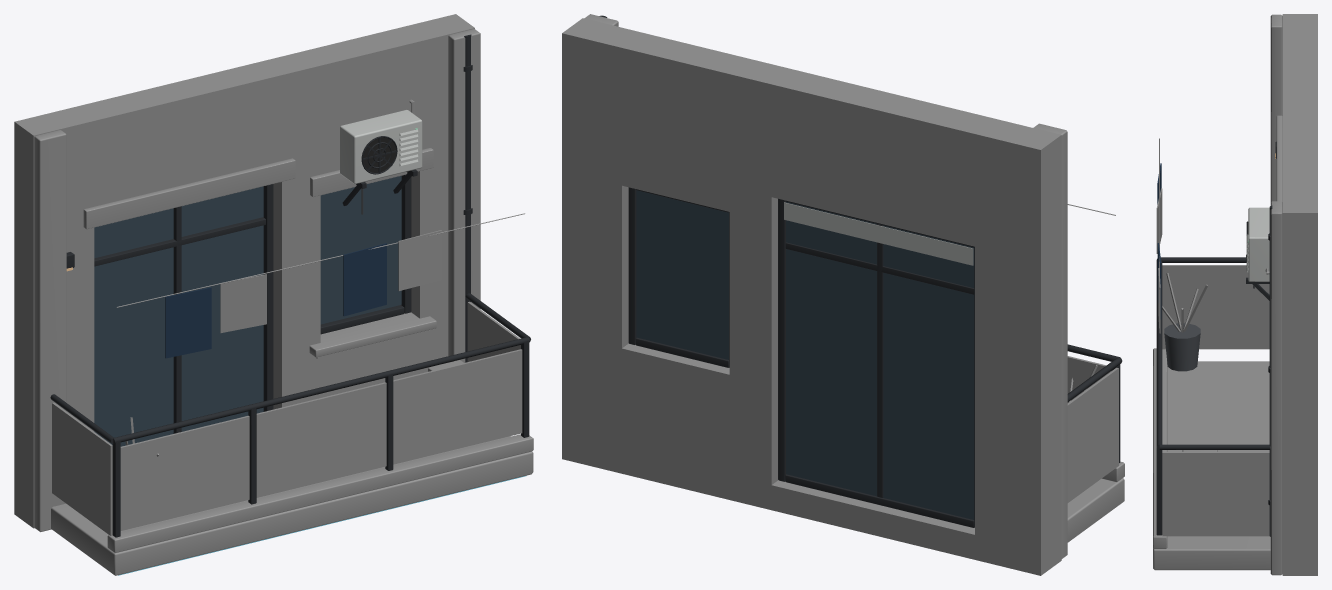
File: Building_Facade_Brick_Balcony.fbx
The picture shows the model from 3 angles, left to right: view 1: azimuth 30°, elevation 25°; view 2: azimuth 150°, elevation 25°; view 3: azimuth 270°, elevation 25°; orthographic projection. The views are drawn at different scales.
Parts seen in each view (by area): view 1: Building_Facade_Brick_Balcony_LOD0; view 2: Building_Facade_Brick_Balcony_LOD0; view 3: Building_Facade_Brick_Balcony_LOD0.
Boxes of the visible parts, box(x1,y1,x2,y2) form: Building_Facade_Brick_Balcony_LOD0: box(14, 14, 533, 575); Building_Facade_Brick_Balcony_LOD0: box(562, 14, 1124, 575); Building_Facade_Brick_Balcony_LOD0: box(1153, 14, 1317, 575).
Size of what is drawn, in the model's own units: 4 by 3.41 by 1.4.
